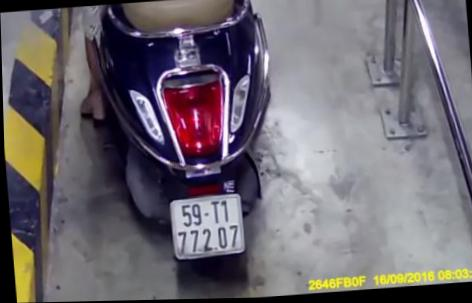LP: (168, 194, 245, 262)
